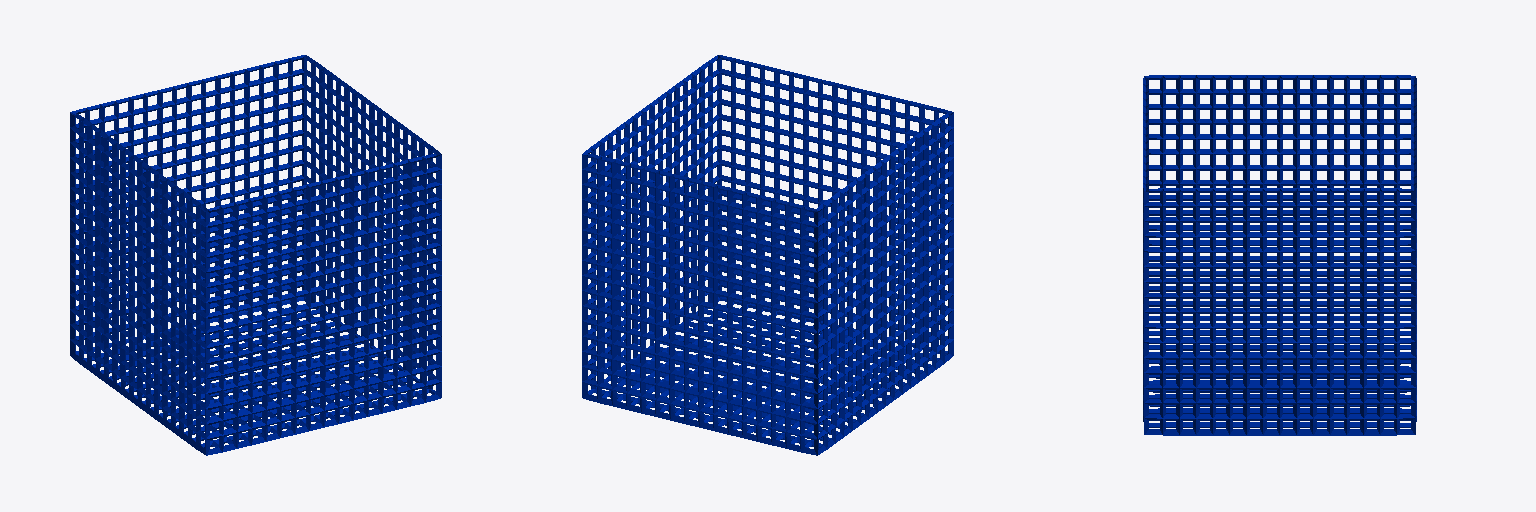
Rendered from boite.obj.
3 renders of one model, left to right at view 1: azimuth 30°, elevation 25°; view 2: azimuth 150°, elevation 25°; view 3: azimuth 270°, elevation 25°, orthographic.
Visible parts, largest first — view 1: Cube; view 2: Cube; view 3: Cube.
Boxes of the visible parts, x1,y1,x2,y2 form: Cube: [70, 55, 441, 455]; Cube: [582, 55, 953, 455]; Cube: [1143, 75, 1416, 435].
Bounding box in the file's own units: 5.81 × 5.74 × 5.81.